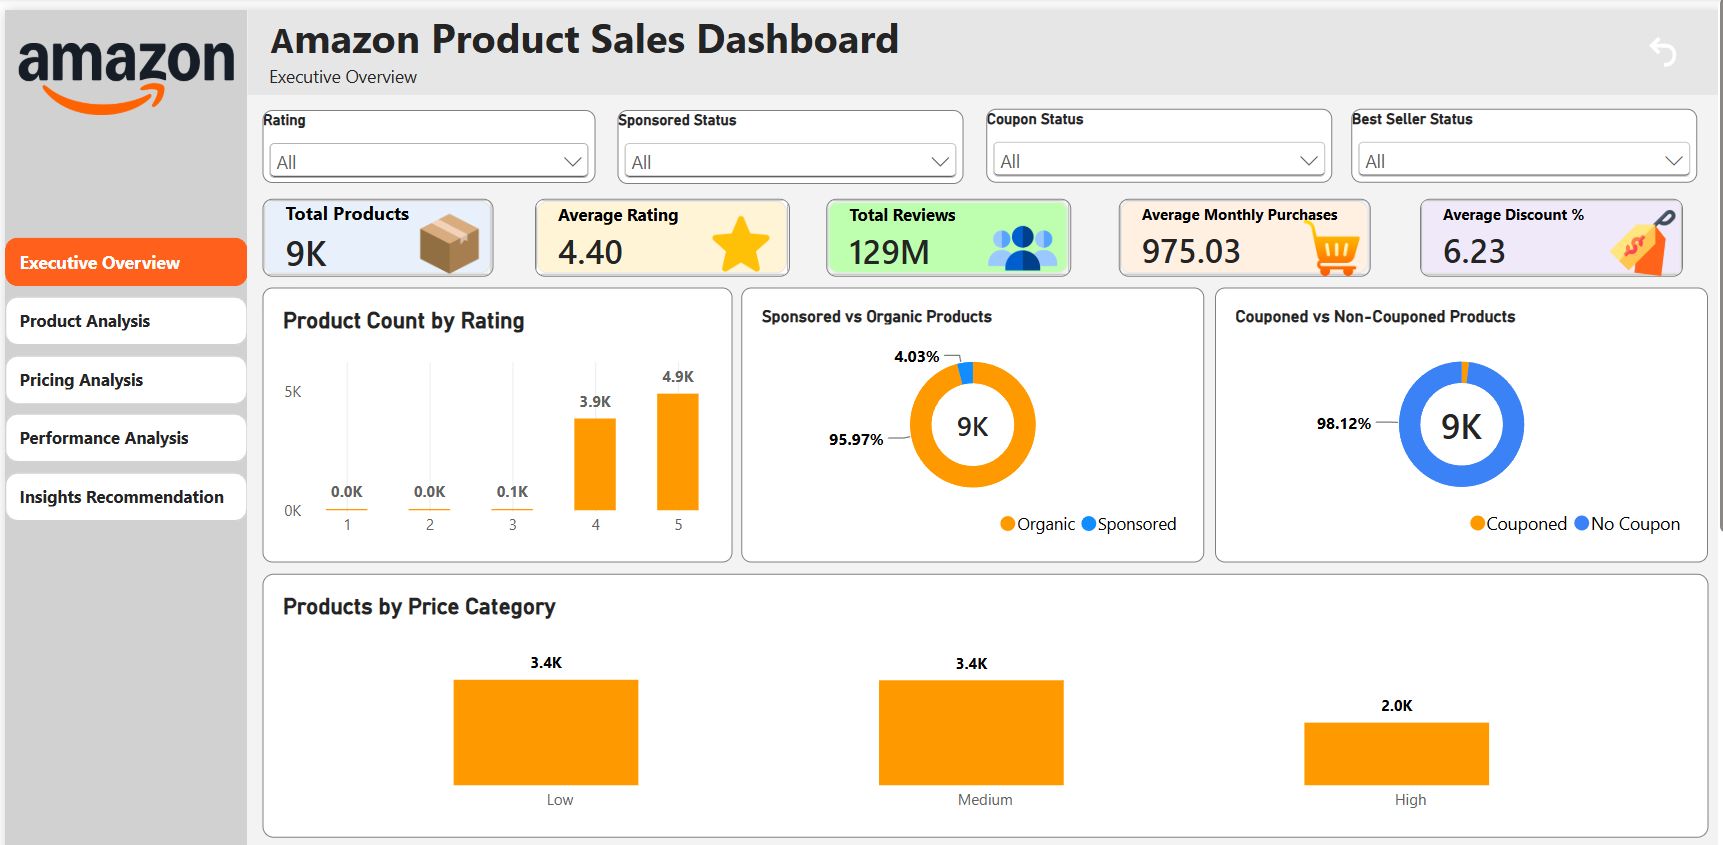

This screenshot's page, from the dashboard's own definition file:
{"tool":"powerbi","page":{"name":"Executive Overview","canvas":[1920,1080],"ordinal":0},"visuals":[{"type":"clusteredColumnChart","title":"Product Count by Rating","fields":{"Category":["amazon_products_sales_data_uncl.Rating Score"],"Y":["amazon_products_sales_data_uncl.Total Products"]},"box":[206,222,376,220],"z":0},{"type":"donutChart","title":"Sponsored vs Organic Products","fields":{"Category":["amazon_products_sales_data_uncl.is_sponsored"],"Y":["Count(amazon_products_sales_data_uncl.title)"]},"box":[589,222,371,220],"z":1000},{"type":"donutChart","title":"Couponed vs Non-Couponed Products","fields":{"Y":["Count(amazon_products_sales_data_uncl.title)"],"Series":["amazon_products_sales_data_uncl.Coupon Status"]},"box":[968,222,395,220],"z":2000},{"type":"clusteredColumnChart","title":"Products by Price Category","fields":{"Category":["amazon_products_sales_data_uncl.Price Category"],"Y":["amazon_products_sales_data_uncl.Total Products"]},"box":[206,451,1157,211],"z":3000},{"type":"slicer","title":"Sponsored Status","fields":{"Values":["amazon_products_sales_data_uncl.is_sponsored"]},"box":[490,80,277,59],"z":4000},{"type":"slicer","title":"Coupon Status","fields":{"Values":["amazon_products_sales_data_uncl.Coupon Status"]},"box":[785,79,277,59],"z":5000},{"type":"slicer","title":"Best Seller Status","fields":{"Values":["amazon_products_sales_data_uncl.is_best_seller"]},"box":[1077,79,277,59],"z":6000},{"type":"slicer","title":"Rating","fields":{"Values":["amazon_products_sales_data_uncl.rating"]},"box":[206,80,267,58],"z":7000},{"type":"shape","box":[0,0,194,923],"z":8000},{"type":"pageNavigator","box":[0,182,194,230],"z":9000},{"type":"image","box":[11,12,172,86],"z":10000},{"type":"cardVisual","fields":{"Data":["amazon_products_sales_data_uncl.Average Rating"]},"box":[424,151,204,62],"z":11000},{"type":"cardVisual","fields":{"Data":["amazon_products_sales_data_uncl.Total Reviews"]},"box":[657,151,196,62],"z":12000},{"type":"cardVisual","fields":{"Data":["amazon_products_sales_data_uncl.Average Monthly Purchases"]},"box":[891,151,202,62],"z":13000},{"type":"cardVisual","fields":{"Data":["amazon_products_sales_data_uncl.Average Discount %"]},"box":[1132,151,211,62],"z":14000},{"type":"cardVisual","fields":{"Data":["amazon_products_sales_data_uncl.Total Products"]},"box":[206,151,185,62],"z":15000},{"type":"shape","box":[194,0,1186,68],"z":16000},{"type":"textbox","box":[183,0,1129,68],"z":17000},{"type":"image","box":[330,163,52,48],"z":18000},{"type":"image","box":[566,163,46,48],"z":19000},{"type":"image","box":[785,163,59,55],"z":20000},{"type":"image","box":[1039,168,45,45],"z":21000},{"type":"image","box":[1278,160,65,53],"z":22000},{"type":"actionButton","box":[1302,0,78,68],"z":22001}]}

Visuals, with their boxes on the page's 1920x1080 design canvas (x1, y1, x2, y2). These are canvas units, not pixel positions in the 1723x845 screenshot, which may show the page scaled, cropped or inside an application window:
"Product Count by Rating" clusteredColumnChart: 206 222 582 442
"Sponsored vs Organic Products" donutChart: 589 222 960 442
"Couponed vs Non-Couponed Products" donutChart: 968 222 1363 442
"Products by Price Category" clusteredColumnChart: 206 451 1363 662
"Sponsored Status" slicer: 490 80 767 139
"Coupon Status" slicer: 785 79 1062 138
"Best Seller Status" slicer: 1077 79 1354 138
"Rating" slicer: 206 80 473 138
shape: 0 0 194 923
pageNavigator: 0 182 194 412
image: 11 12 183 98
cardVisual - amazon_products_sales_data_uncl.Average Rating: 424 151 628 213
cardVisual - amazon_products_sales_data_uncl.Total Reviews: 657 151 853 213
cardVisual - amazon_products_sales_data_uncl.Average Monthly Purchases: 891 151 1093 213
cardVisual - amazon_products_sales_data_uncl.Average Discount %: 1132 151 1343 213
cardVisual - amazon_products_sales_data_uncl.Total Products: 206 151 391 213
shape: 194 0 1380 68
textbox: 183 0 1312 68
image: 330 163 382 211
image: 566 163 612 211
image: 785 163 844 218
image: 1039 168 1084 213
image: 1278 160 1343 213
actionButton: 1302 0 1380 68
